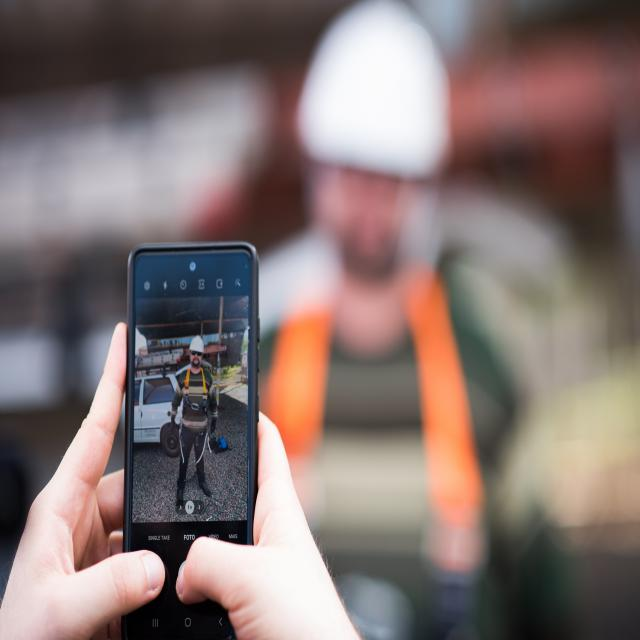botas: (198, 477, 213, 498), (174, 483, 186, 506)
capacete: (188, 334, 205, 355)
corda de vida: (180, 364, 209, 468)
luva: (209, 416, 218, 436), (169, 412, 176, 436)
